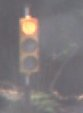Red: (17, 15, 43, 78)
